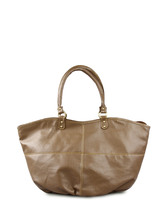bag: (12, 62, 155, 197)
